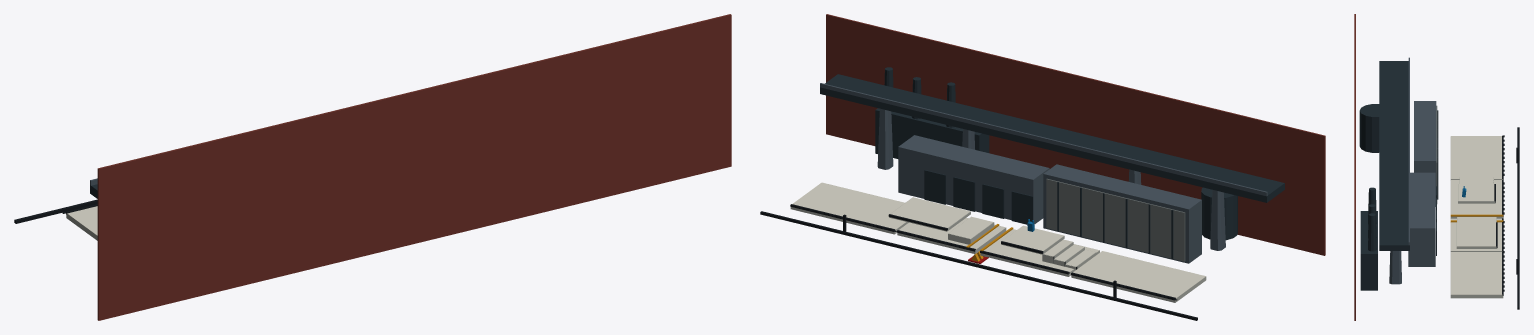
The model's file is central_industrial_belt_v2.obj.
3 renders of one model, left to right at view 1: azimuth 30°, elevation 25°; view 2: azimuth 150°, elevation 25°; view 3: azimuth 270°, elevation 25°, orthographic. The views are drawn at different scales.
Parts seen in each view (by area): view 1: SunsetBackdrop; view 2: SunsetBackdrop, OverpassDeck, TestFacilityWhiteFace, WarehouseMass, TestFacilityMass, WalkableTop_0, WalkableTop_3, OverpassGuard, FarFactory, ForegroundRail, HighDeckTop, FarTank (+11 smaller); view 3: OverpassDeck, WarehouseMass, WalkableTop_3, WalkableTop_0, TestFacilityMass, FarFactory, FarTank, HighDeckTop, WalkableTop_1, SunsetBackdrop, RaisedDeckTop, ForegroundRail (+11 smaller).
Part boxes in pixels (box(x1,y1,x2,y2)): SunsetBackdrop: box(97, 14, 731, 320); SunsetBackdrop: box(826, 14, 1325, 255); OverpassDeck: box(820, 74, 1284, 202); TestFacilityWhiteFace: box(1046, 178, 1185, 261); WarehouseMass: box(898, 135, 1049, 224); TestFacilityMass: box(1043, 164, 1201, 263); WalkableTop_0: box(1073, 251, 1205, 298); WalkableTop_3: box(792, 182, 905, 229); OverpassGuard: box(820, 83, 1267, 196); FarFactory: box(875, 108, 989, 158); ForegroundRail: box(760, 211, 1197, 320); HighDeckTop: box(890, 197, 969, 227); FarTank: box(1201, 187, 1237, 240); OverpassDeck: box(1379, 61, 1409, 250); WarehouseMass: box(1408, 172, 1435, 266); WalkableTop_3: box(1451, 252, 1502, 294); WalkableTop_0: box(1451, 136, 1502, 179); TestFacilityMass: box(1414, 101, 1436, 206); FarFactory: box(1360, 211, 1377, 290); FarTank: box(1359, 104, 1379, 152); HighDeckTop: box(1457, 222, 1495, 246); WalkableTop_1: box(1451, 180, 1501, 214); SunsetBackdrop: box(1354, 14, 1355, 320); RaisedDeckTop: box(1458, 184, 1494, 200); ForegroundRail: box(1517, 127, 1519, 309).
Bounding box in the file's own units: 48 × 11.66 × 16.28.
